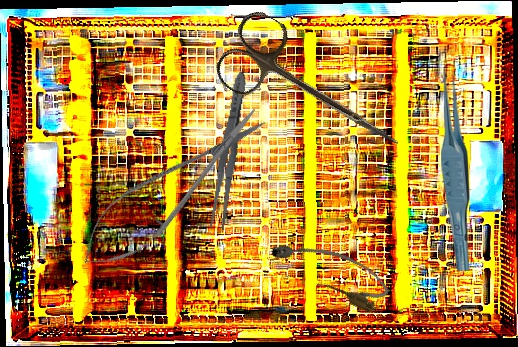Cannula: (265, 223, 395, 317)
Dressing Forceps: (206, 69, 252, 233)
Iris Scissors: (209, 5, 421, 176)
Micro Scissor: (66, 93, 279, 285)
Tissue Forceps: (441, 67, 471, 271)
